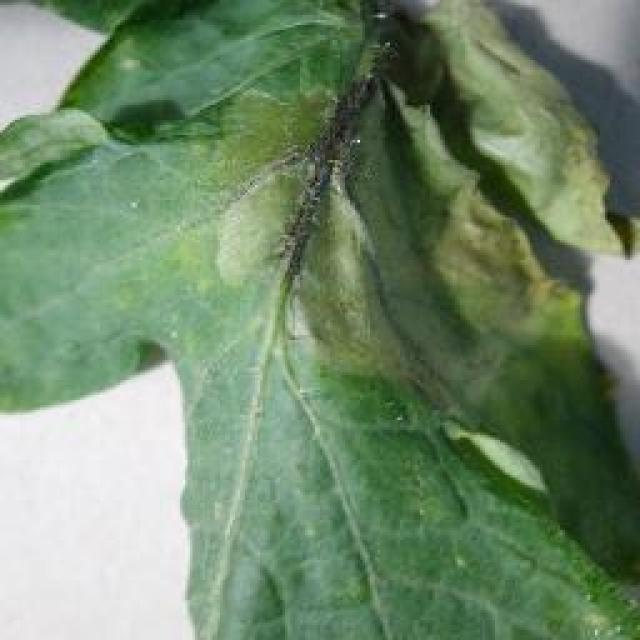Tomato Late Blight: (216, 53, 422, 382)
